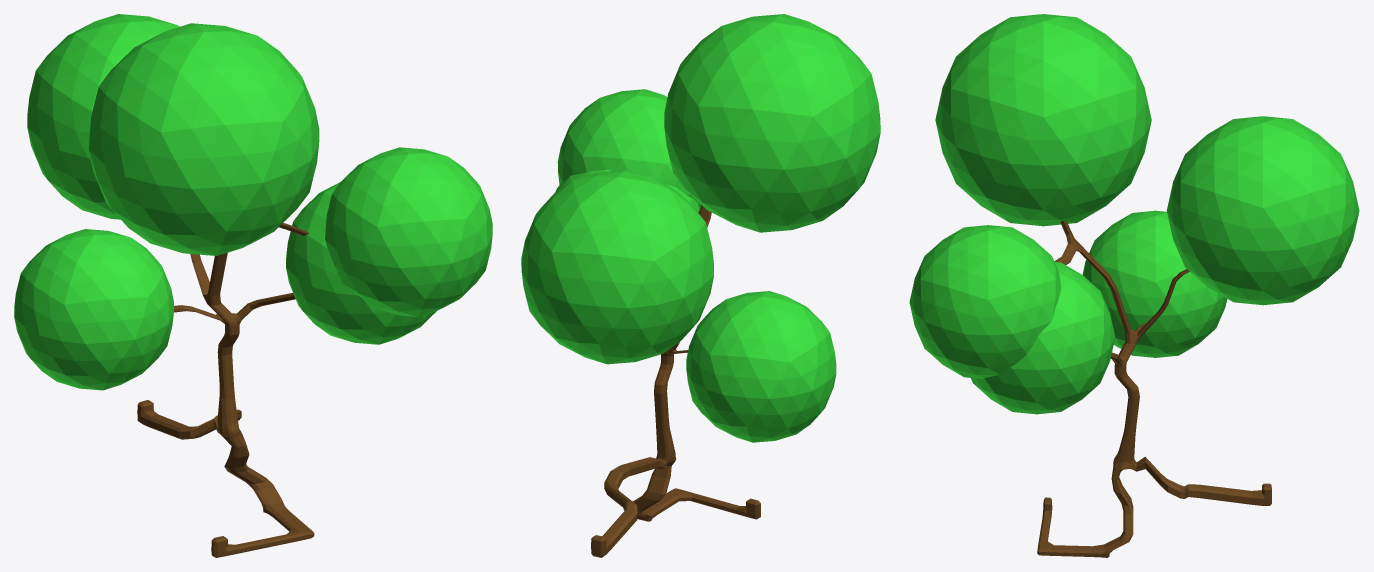
File: TreeSmallestFull.fbx
3 views of the same model, side by side, from view 1: azimuth 30°, elevation 25°; view 2: azimuth 150°, elevation 25°; view 3: azimuth 270°, elevation 25° (orthographic). The views are drawn at different scales.
Parts seen in each view (by area): view 1: SmallestTree.036; view 2: SmallestTree.036; view 3: SmallestTree.036.
Part boxes in pixels (x1,y1,x2,y2): SmallestTree.036: [14, 14, 492, 557]; SmallestTree.036: [521, 14, 880, 557]; SmallestTree.036: [909, 14, 1359, 557].
Bounding box in the file's own units: 28.35 × 39.23 × 32.84.
